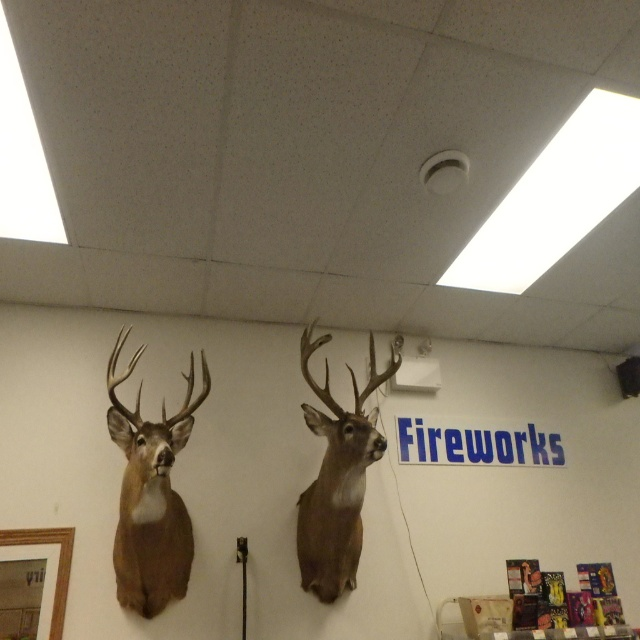Deer: (107, 323, 211, 621), (296, 319, 402, 606)
